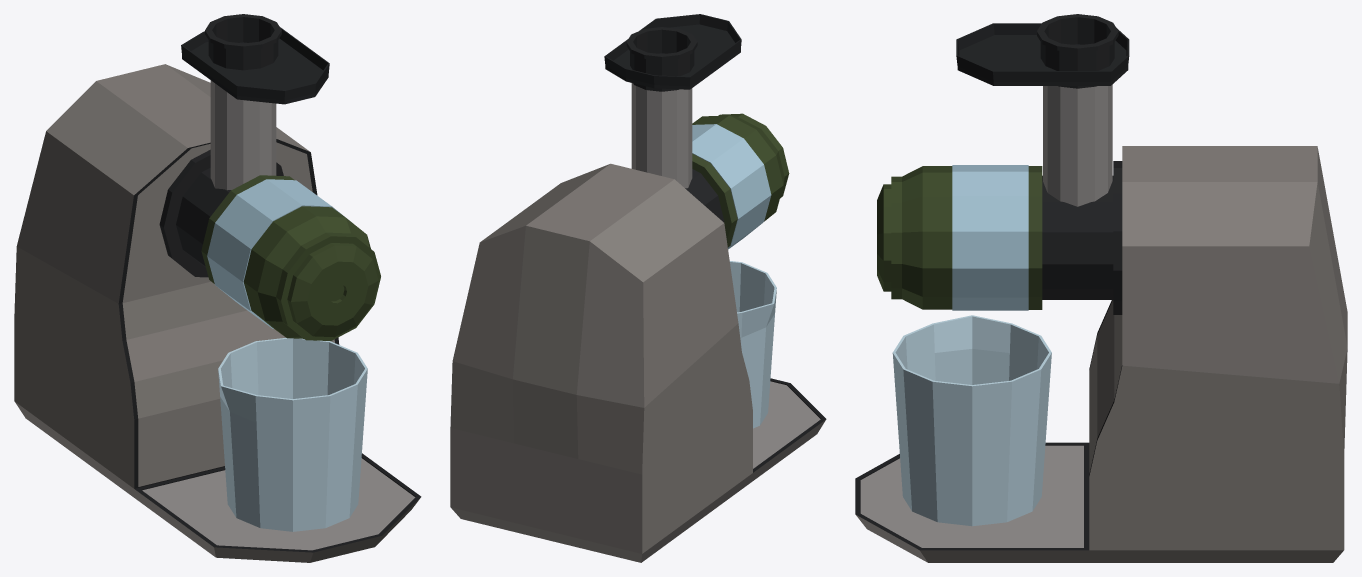
File: juicer_01_A.gltf
3 views of the same model, side by side, from view 1: azimuth 30°, elevation 25°; view 2: azimuth 150°, elevation 25°; view 3: azimuth 270°, elevation 25° (orthographic). The views are drawn at different scales.
Parts seen in each view (by area): view 1: juicer_01_A, Glassforjuicer_01_A; view 2: juicer_01_A, Glassforjuicer_01_A; view 3: juicer_01_A, Glassforjuicer_01_A.
Part boxes in pixels (x1,y1,x2,y2): juicer_01_A: (14,14,421,562); Glassforjuicer_01_A: (218,338,367,531); juicer_01_A: (450,14,826,562); Glassforjuicer_01_A: (729,261,776,428); juicer_01_A: (855,14,1347,562); Glassforjuicer_01_A: (892,315,1051,526).
Size of the model in its own units: 0.228 by 0.4748 by 0.4404.
1 material, 1 textured.
